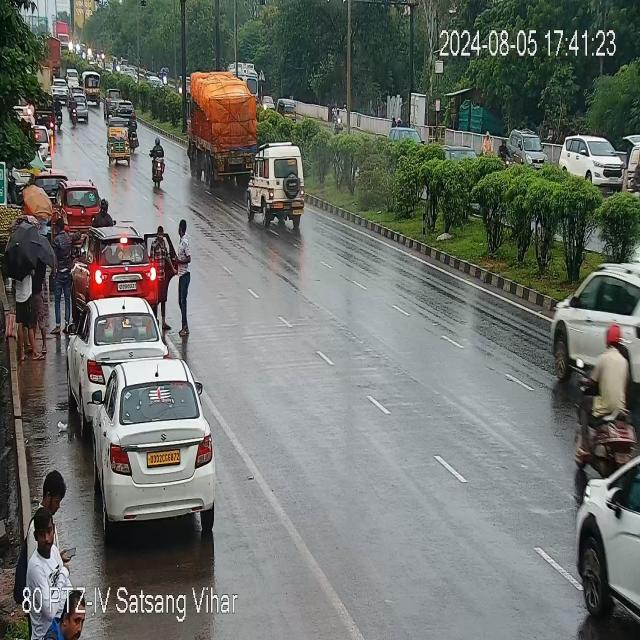2-wheelers: (586, 319, 640, 461), (150, 136, 165, 189), (129, 112, 140, 153), (54, 96, 63, 128), (334, 107, 344, 131), (71, 96, 76, 124), (113, 60, 120, 74), (68, 40, 74, 53), (99, 49, 105, 61), (87, 45, 93, 56), (178, 81, 182, 95), (82, 46, 85, 60), (163, 70, 166, 84), (96, 50, 100, 60), (76, 44, 80, 54)
auto: (107, 125, 130, 164), (278, 97, 301, 131), (82, 72, 101, 106)
car: (96, 360, 222, 532), (574, 447, 640, 640), (551, 258, 639, 374), (72, 302, 165, 408), (78, 225, 174, 305), (248, 144, 309, 232), (562, 135, 624, 206), (14, 246, 36, 367), (54, 178, 98, 232), (34, 250, 52, 358), (507, 134, 547, 167), (384, 126, 425, 149), (437, 145, 479, 166), (70, 93, 93, 128), (105, 98, 137, 122), (36, 121, 51, 169), (104, 86, 122, 114), (51, 77, 68, 99), (64, 68, 79, 87)
pedestrian: (16, 471, 88, 640), (173, 220, 194, 345), (52, 224, 72, 334), (156, 228, 170, 318)
truck: (189, 68, 269, 185), (40, 34, 62, 76), (239, 64, 262, 98)
